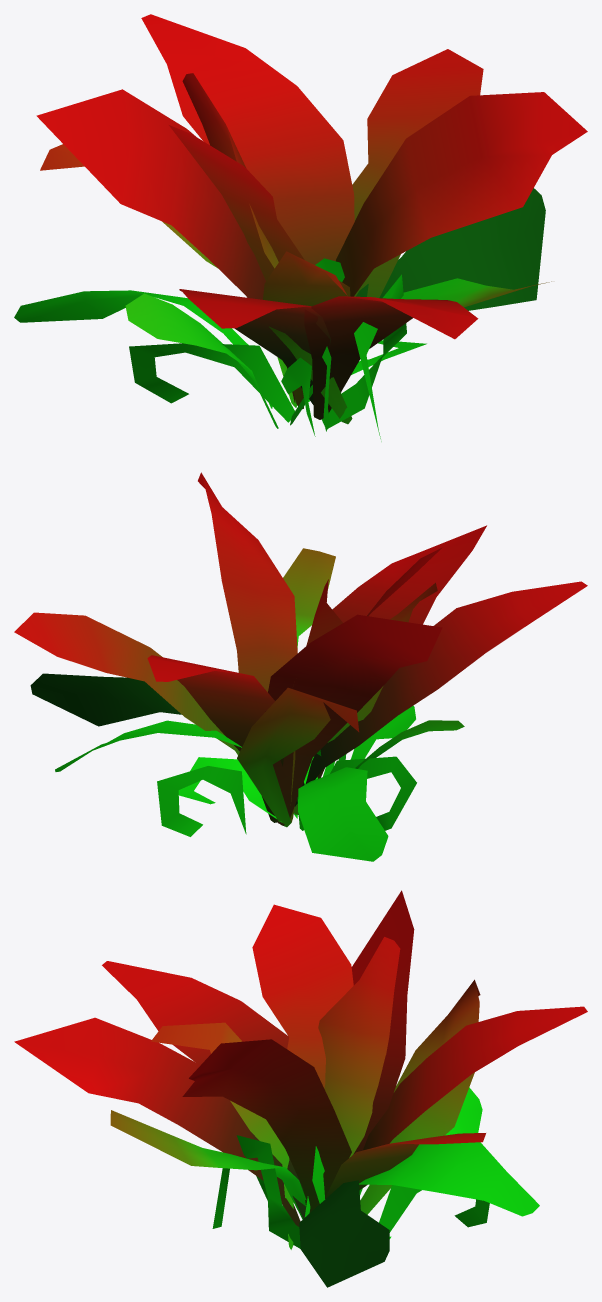
File: Fern_LOD1_Var1_rmAsg.fbx
3 views of the same model, one above another, from view 1: azimuth 30°, elevation 25°; view 2: azimuth 150°, elevation 25°; view 3: azimuth 270°, elevation 25° (orthographic). The views are drawn at different scales.
Visible parts, largest first — view 1: _01d6_Var1_LOD1; view 2: _01d6_Var1_LOD1; view 3: _01d6_Var1_LOD1.
Boxes of the visible parts, bbox=[...] form: _01d6_Var1_LOD1: bbox=[14, 14, 587, 441]; _01d6_Var1_LOD1: bbox=[14, 472, 587, 861]; _01d6_Var1_LOD1: bbox=[14, 890, 587, 1287].
Size of the model in its own units: 155 by 103 by 188.
